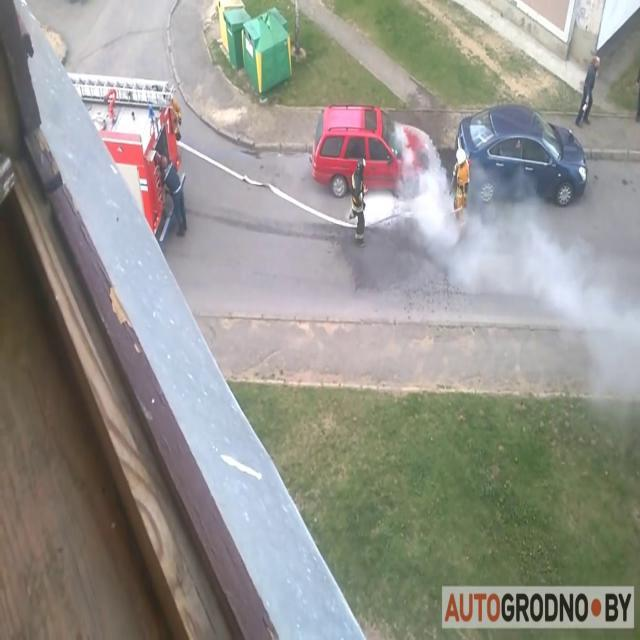Smoke: (445, 150, 623, 330)
